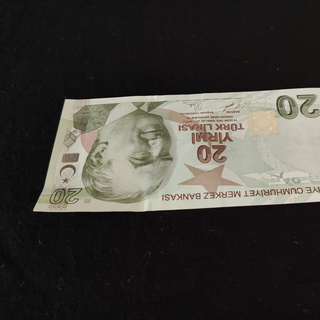20TLFront: (33, 87, 320, 214)
